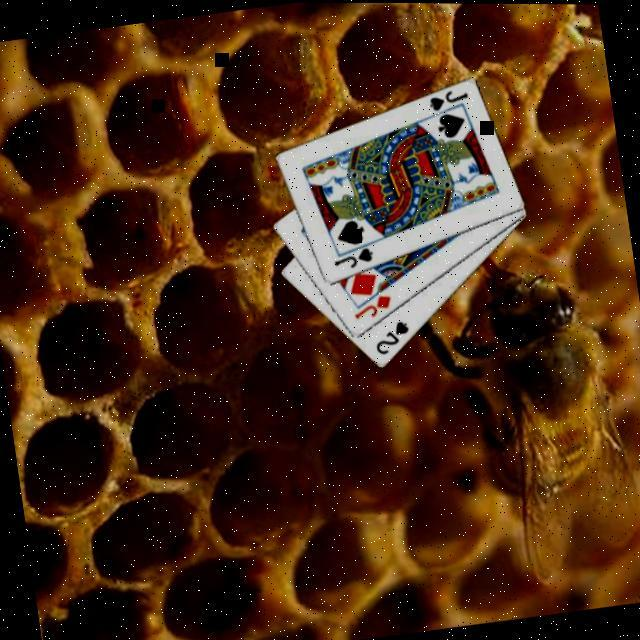2S: (371, 318, 417, 360)
JD: (352, 292, 399, 324)
JS: (331, 245, 380, 275), (427, 86, 474, 116)
